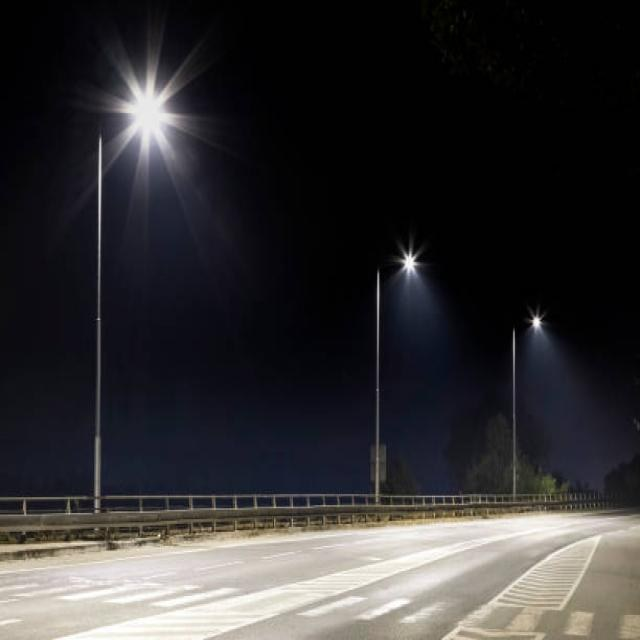acesa: (95, 48, 203, 170), (392, 238, 428, 277), (523, 304, 548, 333)
